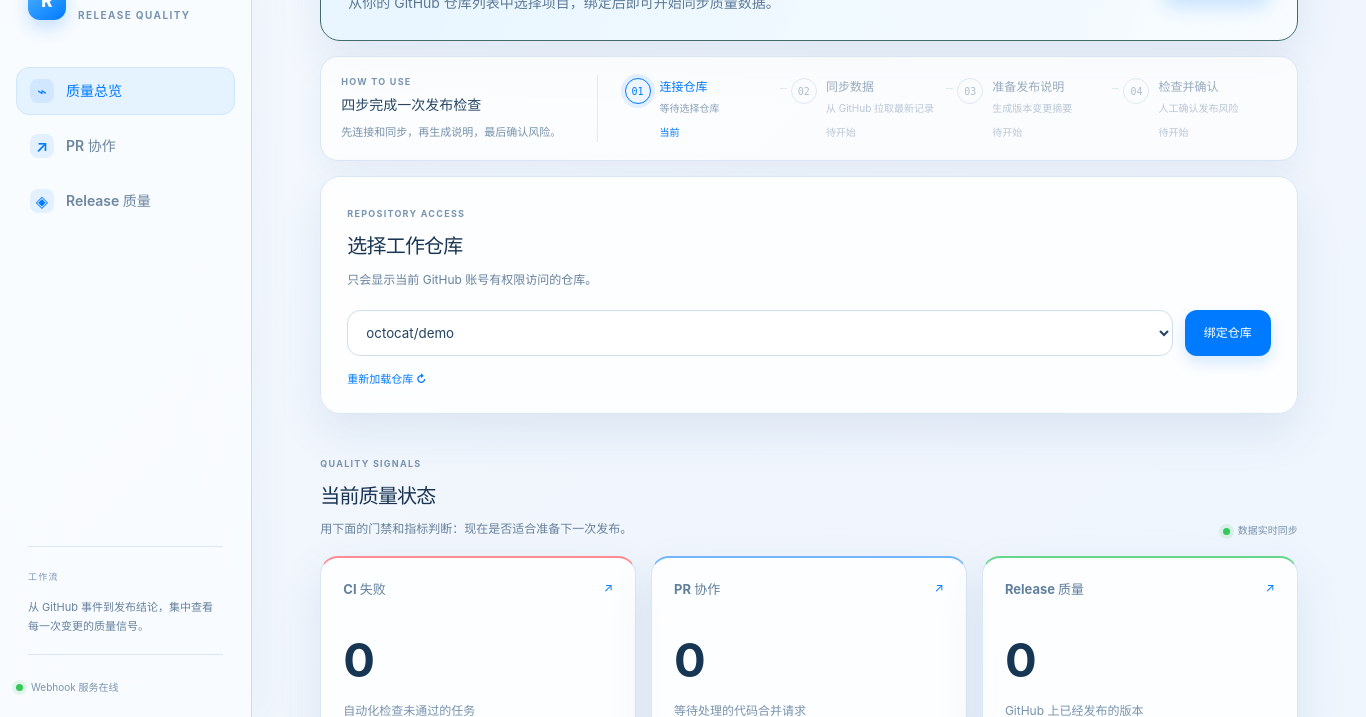
Test case: RepoOps app shell › syncs the bound repository and renders live quality data
(page scrolled)
Click the button with test id "bind-repository" at [1228, 333], box [1185, 310, 1271, 356]
(page scrolled)
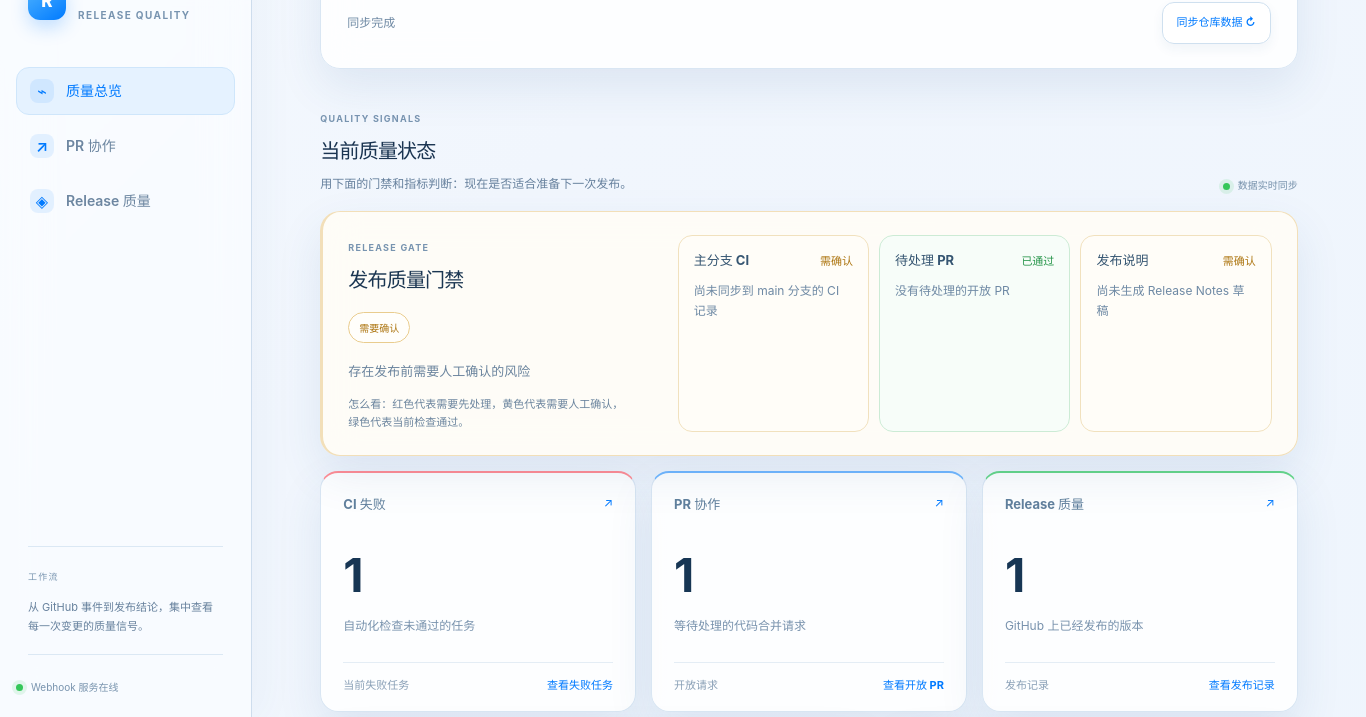
Result: the text with test id "sync-status" reads "同步完成" at [347, 14, 395, 30]
Result: the element with test id "metric-pr" shows "1" at [674, 546, 691, 603]
Result: the element with test id "metric-ci" shows "1" at [343, 546, 360, 603]
